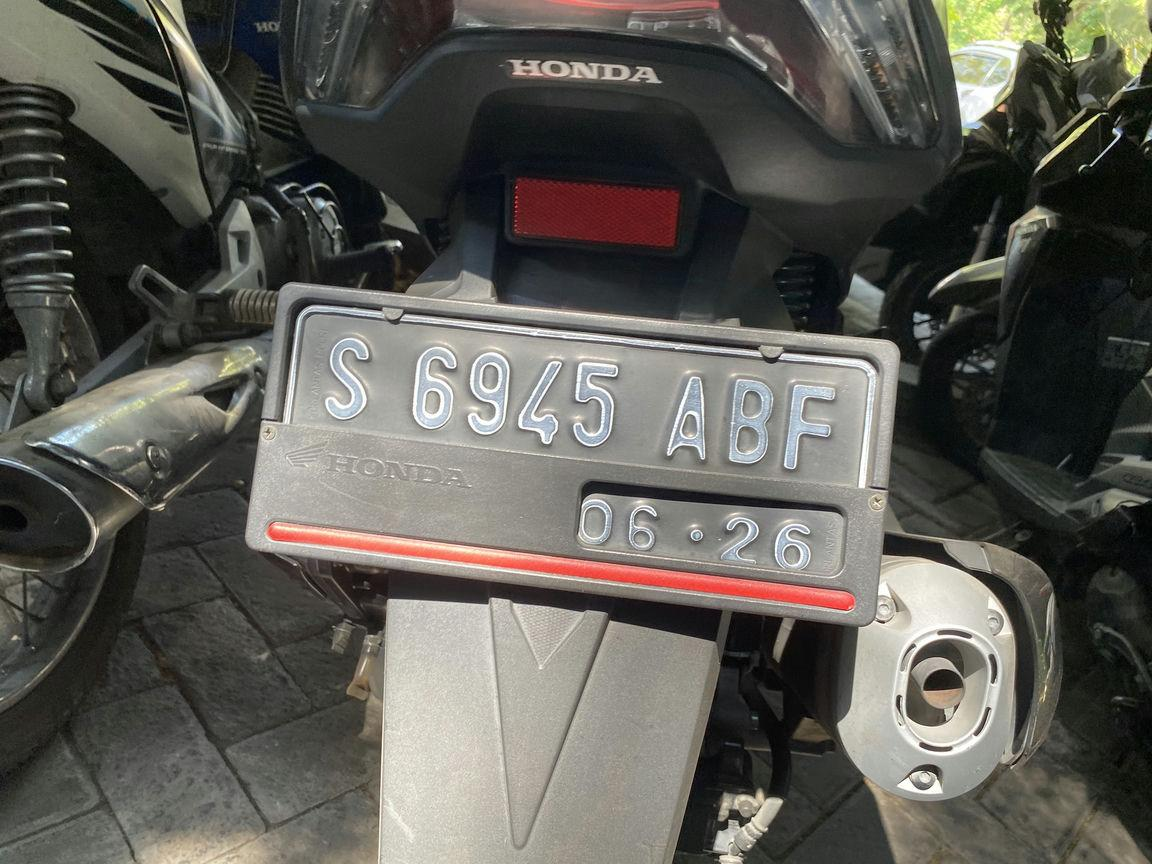plat: (248, 286, 898, 626)
